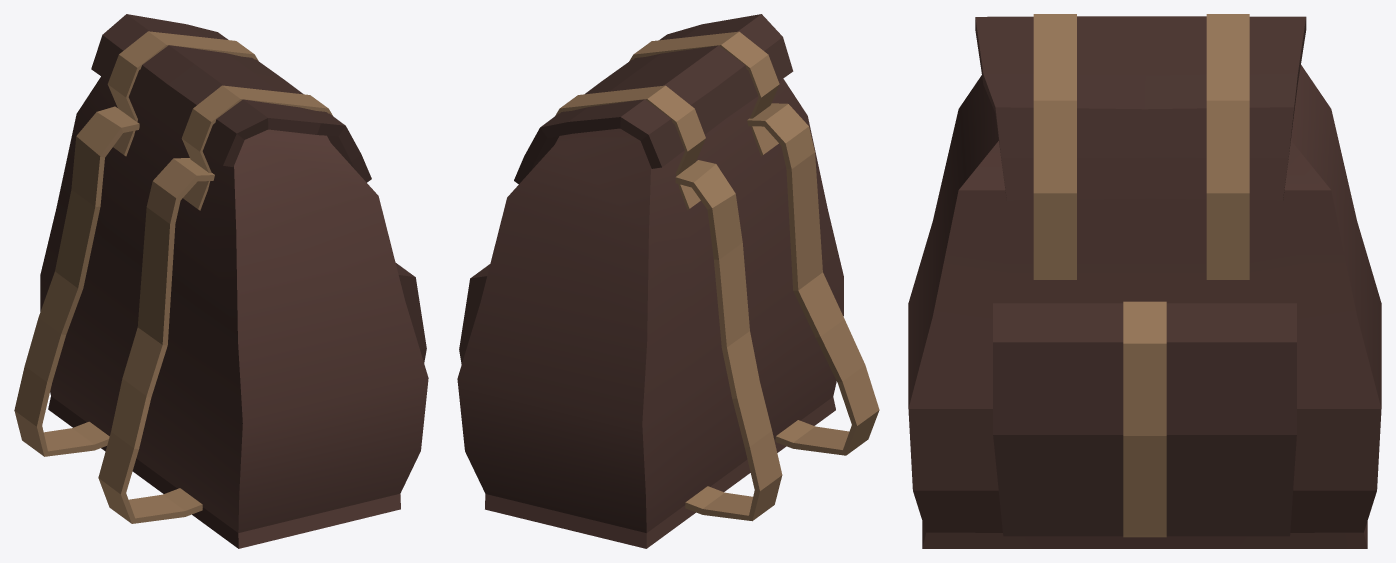
File: plecaczek.fbx
The picture shows the model from 3 angles, left to right: view 1: azimuth 30°, elevation 25°; view 2: azimuth 150°, elevation 25°; view 3: azimuth 270°, elevation 25°; orthographic projection. The views are drawn at different scales.
Parts seen in each view (by area): view 1: plecaczek jednolity; view 2: plecaczek jednolity; view 3: plecaczek jednolity.
Part boxes in pixels (x1,y1,x2,y2): plecaczek jednolity: (14, 14, 428, 548); plecaczek jednolity: (457, 14, 879, 548); plecaczek jednolity: (908, 14, 1381, 548).
Bounding box in the file's own units: 90.63 × 116 × 105.
